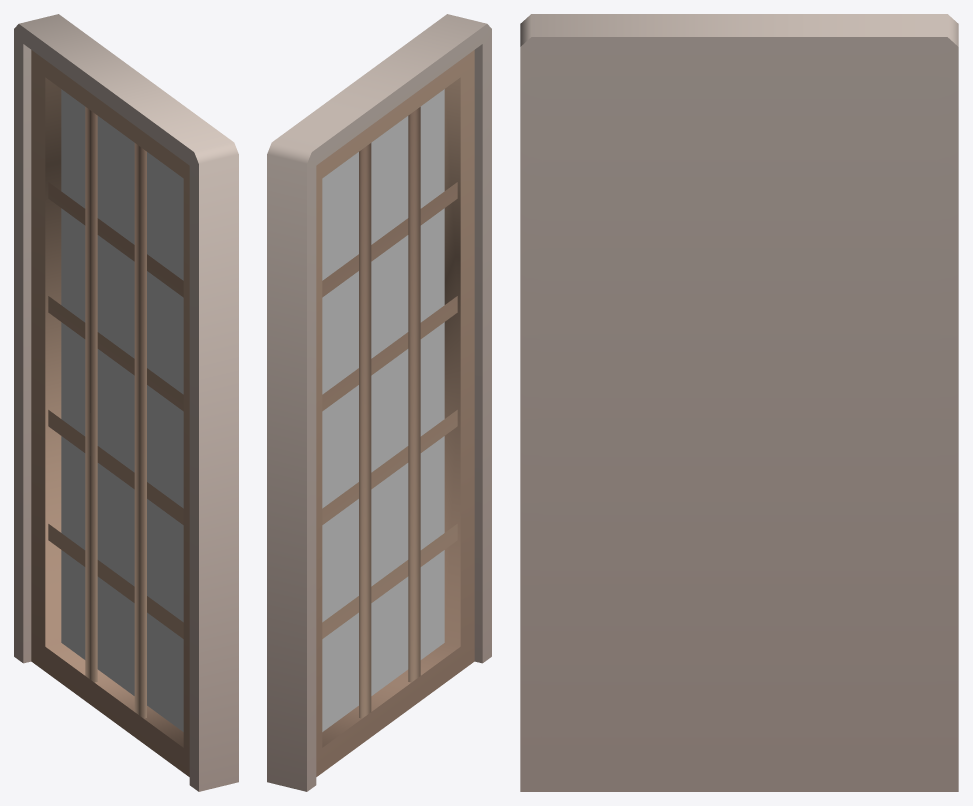
The model's file is door-shoji-standard (%wall).glb.
3 renders of one model, left to right at view 1: azimuth 30°, elevation 25°; view 2: azimuth 150°, elevation 25°; view 3: azimuth 270°, elevation 25°, orthographic. The views are drawn at different scales.
Parts seen in each view (by area): view 1: door-shoji-standard (%wall); view 2: door-shoji-standard (%wall); view 3: door-shoji-standard (%wall).
Part boxes in pixels (x1,y1,x2,y2): door-shoji-standard (%wall): (14, 14, 238, 791); door-shoji-standard (%wall): (267, 14, 491, 791); door-shoji-standard (%wall): (520, 14, 958, 791).
Bounding box in the file's own units: 0.125 × 1.9 × 1.
